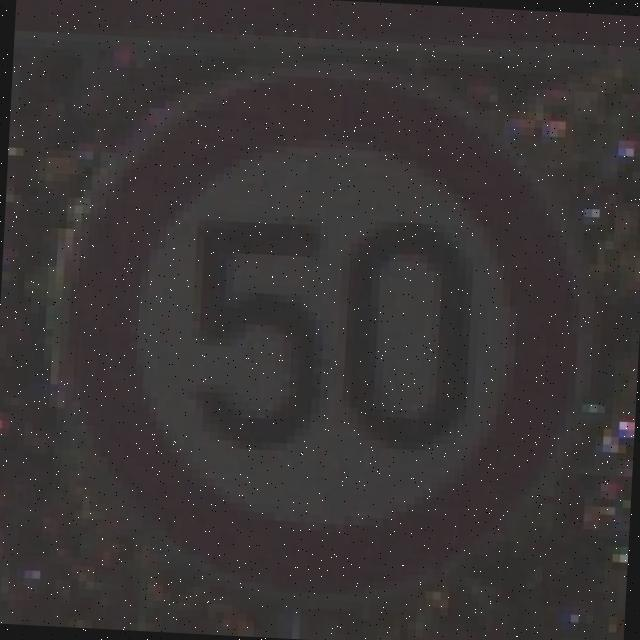Ograniczenie predkosci do 50: (44, 61, 596, 602)
